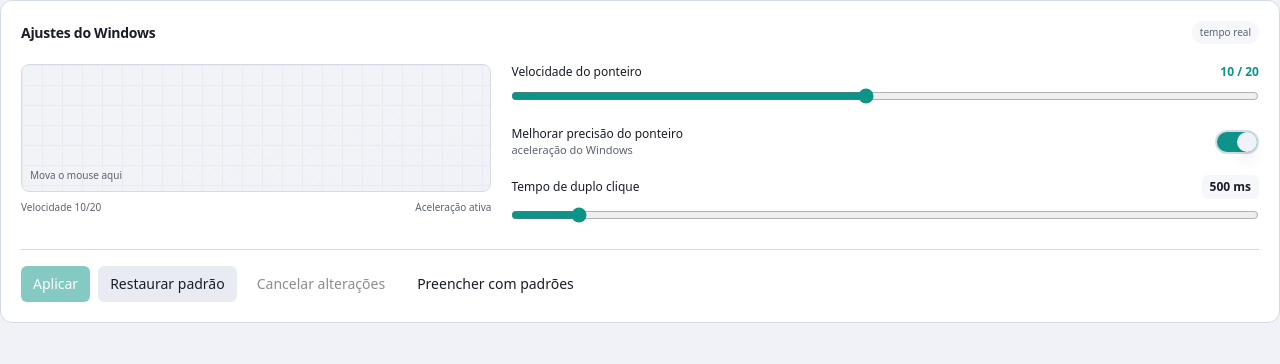
Test: MouseSettingsPanel — controles › exibe a falha de gravação e mantém o botão Aplicar disponível
The width and height of the screenshot is (1280, 364).
Step 1. Set the slider labelled "Velocidade do ponteiro" to "12" → x=943, y=96, box [511,88,1259,104]
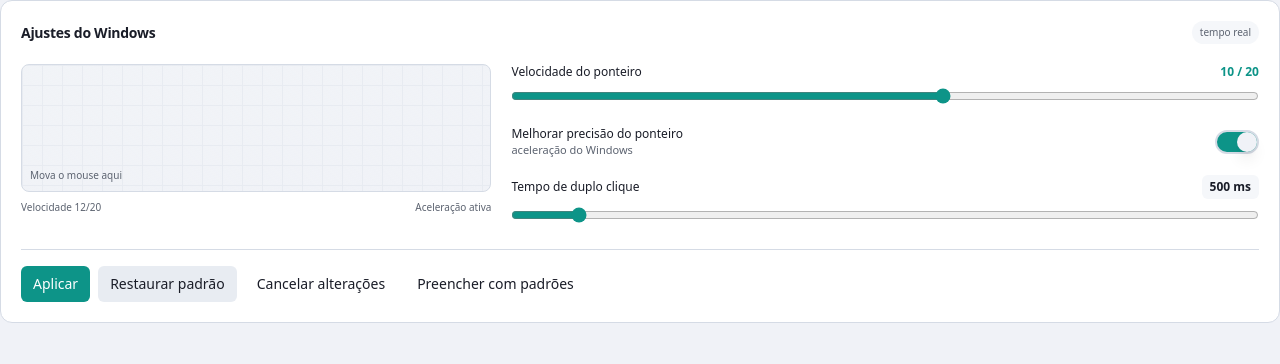
Step 2. Click the button "Aplicar" → x=56, y=284, box [21,266,90,302]
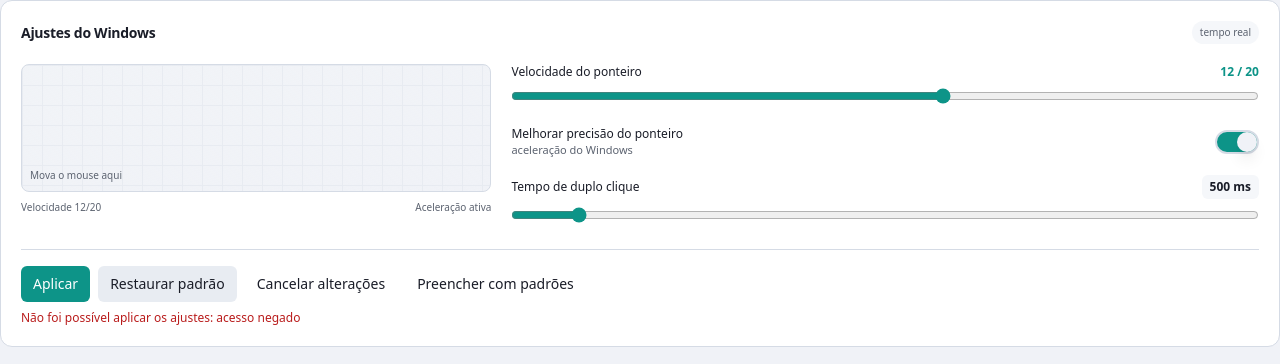
Expected: the button "Aplicar" is enabled, [21,266,90,302]
Expected: the text "Não foi possível aplicar os ajustes" is shown, [21,308,216,326]
Expected: the text "acesso negado" is shown, [216,308,300,326]
